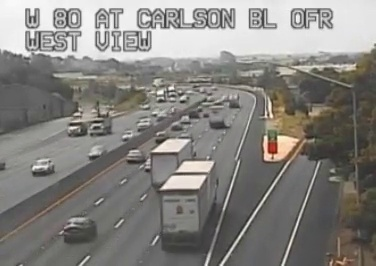car: (63, 217, 94, 241), (127, 150, 143, 163)
truck: (158, 160, 216, 248), (150, 138, 192, 189)
